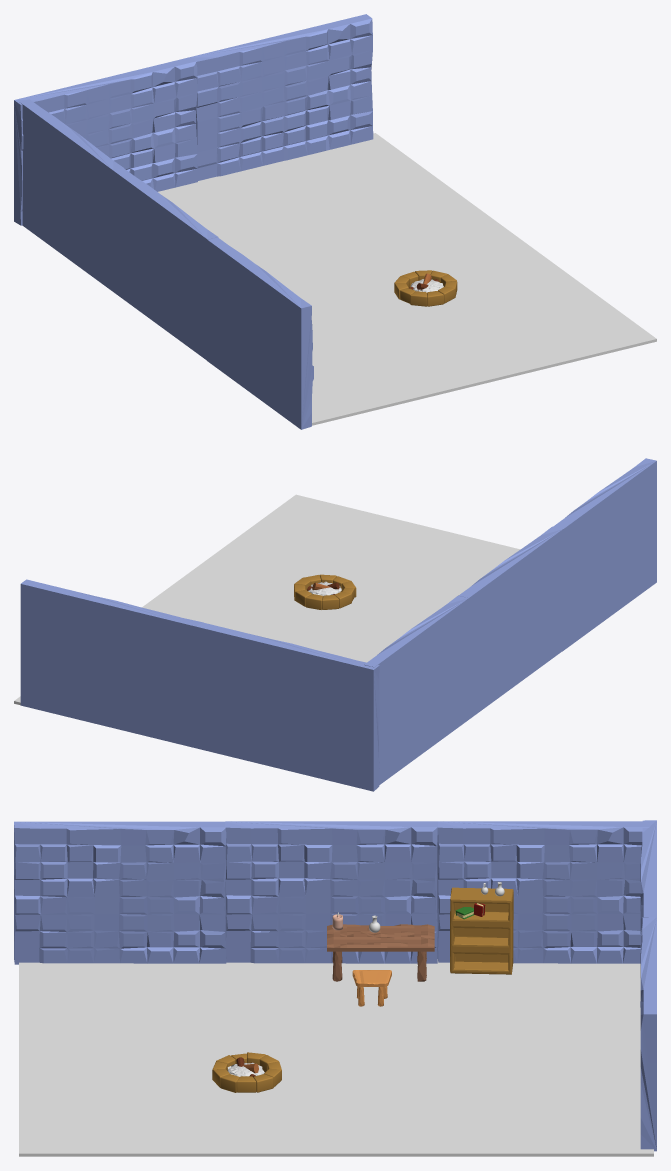
Rendered from roomforAGP.fbx.
3 renders of one model, top to bottom at view 1: azimuth 30°, elevation 25°; view 2: azimuth 150°, elevation 25°; view 3: azimuth 270°, elevation 25°, orthographic. The views are drawn at different scales.
Visible parts, largest first — view 1: Cube, Cube.053, Cube.017, Cube.007, Cube.016, Cube.041, Cube.030; view 2: Cube, Cube.017, Cube.053, Cube.016, Cube.007, Cube.041, Cube.030; view 3: Cube, Cube.007, Cube.016, Cube.041, Cube.025, Cube.053, Cube.018, Cube.030, Cube.017, Cube.022.
Part boxes in pixels (x1,y1,x2,y2): Cube: [158, 133, 656, 425]; Cube.053: [191, 14, 373, 180]; Cube.017: [14, 57, 197, 225]; Cube.007: [207, 237, 313, 429]; Cube.016: [113, 168, 218, 360]; Cube.041: [19, 99, 123, 291]; Cube.030: [394, 270, 457, 306]; Cube: [14, 494, 520, 705]; Cube.017: [196, 622, 379, 791]; Cube.053: [20, 579, 203, 748]; Cube.016: [458, 526, 562, 719]; Cube.007: [553, 458, 656, 651]; Cube.041: [364, 596, 468, 784]; Cube.030: [294, 574, 356, 609]; Cube: [19, 959, 653, 1156]; Cube.007: [14, 821, 226, 964]; Cube.016: [225, 821, 437, 963]; Cube.041: [437, 821, 650, 963]; Cube.025: [450, 887, 513, 974]; Cube.053: [640, 917, 656, 1151]; Cube.018: [327, 924, 434, 951]; Cube.030: [212, 1052, 281, 1092]; Cube.017: [640, 820, 656, 979]; Cube.022: [352, 970, 391, 1006].
Size of the model in its own units: 3371 by 1096 by 4618.
